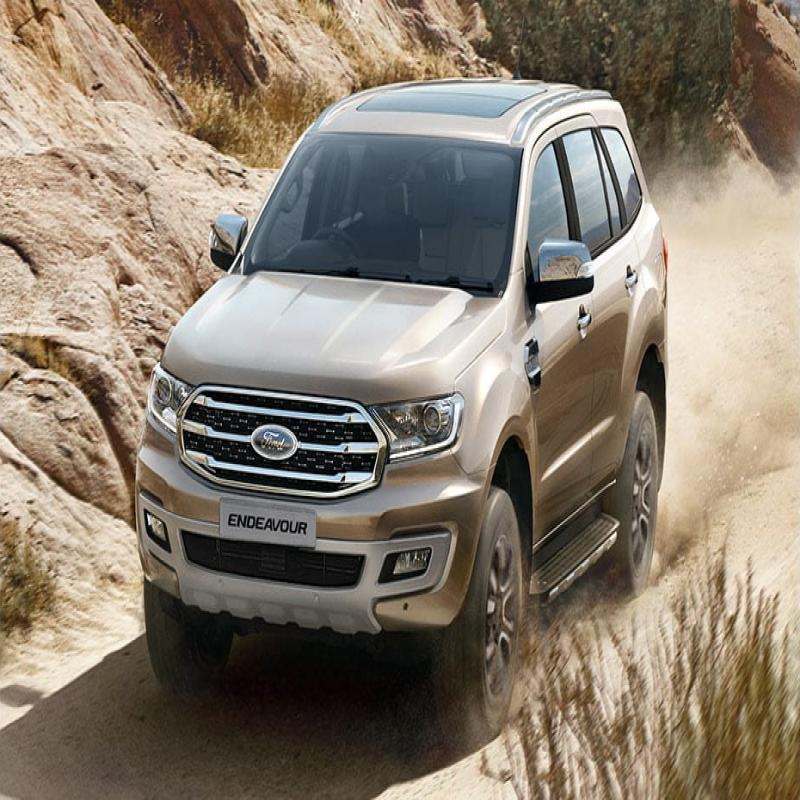car: (106, 54, 690, 692)
